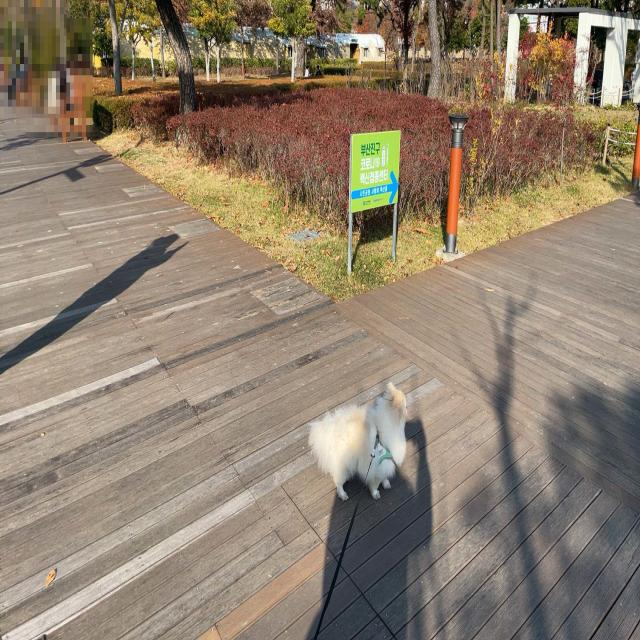Dog: (308, 379, 408, 503)
